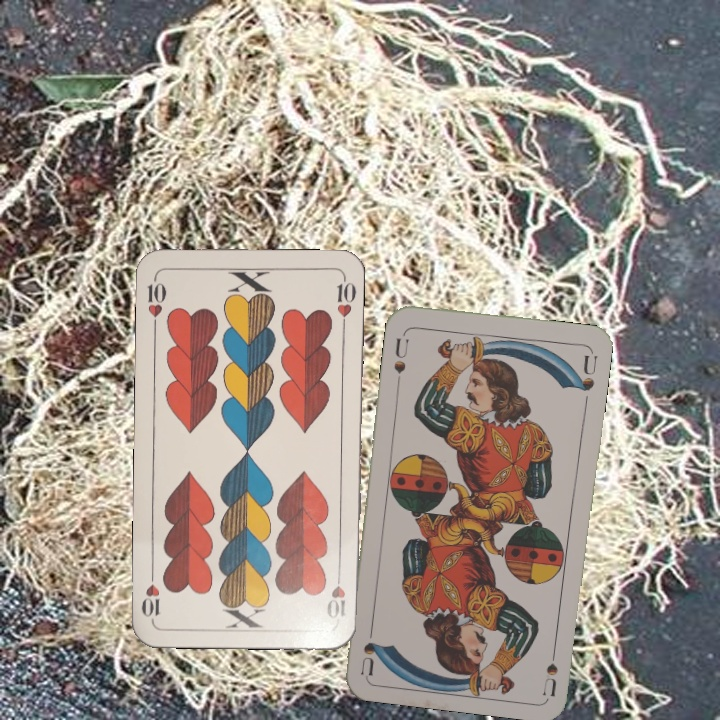H10: (143, 272, 169, 331), (324, 565, 348, 622)
SU: (538, 637, 561, 697), (389, 327, 412, 386)
